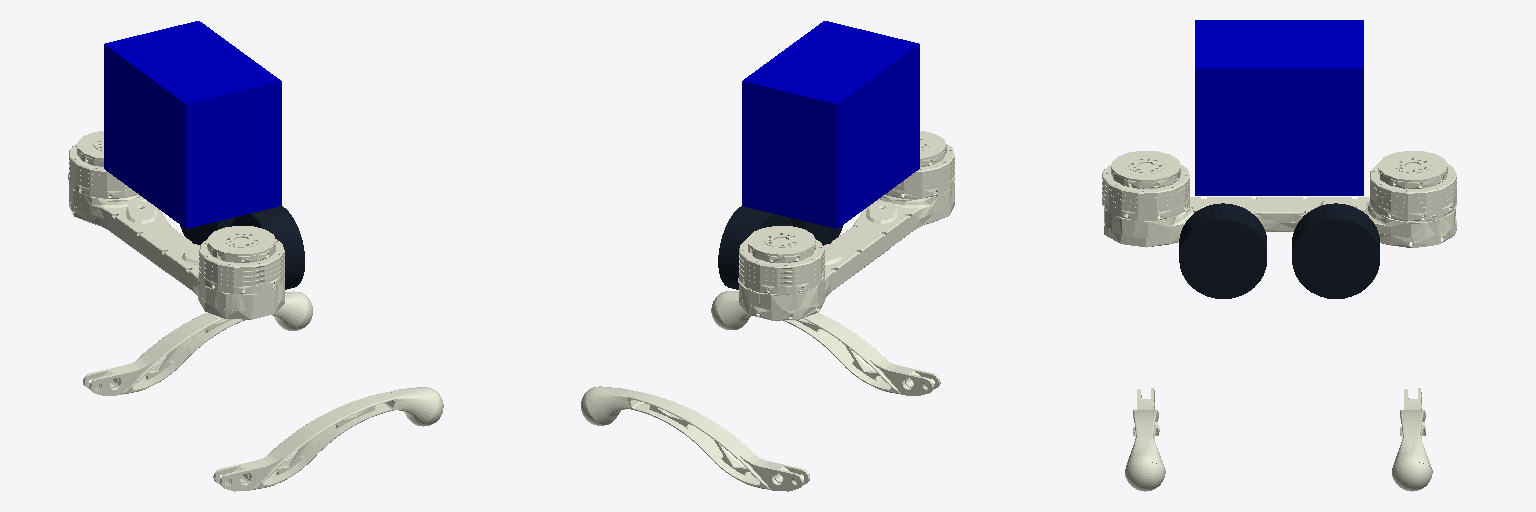
URDF robot description (SDUog_description):
<?xml version="1.0" ?>
<robot name="SDUog_description" xmlns:xacro="http://www.ros.org/wiki/xacro">
  <material name="black">
    <color rgba="0.0 0.0 0.0 1.0"/>
  </material>
  <material name="blue">
    <color rgba="0.0 0.0 0.8 1.0"/>
  </material>
  <material name="green">
    <color rgba="0.0 0.8 0.0 1.0"/>
  </material>
  <material name="grey">
    <color rgba="0.2 0.2 0.2 1.0"/>
  </material>
  <material name="silver">
    <color rgba="0.913725490196 0.913725490196 0.847058823529 1.0"/>
  </material>
  <material name="orange">
    <color rgba="0.12 0.15 0.2 1.0"/>
  </material>
  <material name="brown">
    <color rgba="0.870588235294 0.811764705882 0.764705882353 1.0"/>
  </material>
  <material name="red">
    <color rgba="0.8 0.0 0.0 1.0"/>
  </material>
  <material name="white">
    <color rgba="1.0 1.0 1.0 1.0"/>
  </material>

  <link name="base">
    <visual>
      <origin rpy="0 0 0" xyz="0 0 0"/>
      <geometry>
        <box size="0.001 0.001 0.001"/>
      </geometry>
    </visual>
  </link>

  <joint name="floating_base" type="fixed">
    <origin rpy="0 0 0" xyz="0 0 0"/>
    <parent link="base"/>
    <child link="trunk"/>
  </joint>

  <link name="trunk">
    <visual>
      <origin rpy="0 0 0" xyz="0 0 0"/>
      <geometry>
         <box size="0.12 0.18 0.15"/>
      </geometry>
      <material name="blue"/>
    </visual>

    <collision>
      <origin rpy="0 0 0" xyz="0 0 0"/>
      <geometry>
        <box size="0.12 0.18 0.15"/>
      </geometry>
    </collision>

    <inertial>
      <origin rpy="0 0 0" xyz="0.05 0 0.025"/>
      <mass value="5.5"/> 
      <inertia ixx="0.011253" ixy="0" ixz="0" iyy="0.036203" iyz="0" izz="0.042673"/>
    </inertial>
  </link>

  <joint name="imu_joint" type="fixed">
    <parent link="trunk"/>
    <child link="imu_link"/>
    <origin rpy="0 0 0" xyz="0 0 0"/>
  </joint>

  <link name="imu_link">
    <inertial>
      <mass value="0.001"/>
      <origin rpy="0 0 0" xyz="0 0 0"/>
      <inertia ixx="0.0001" ixy="0" ixz="0" iyy="0.0001" iyz="0" izz="0.0001"/>
    </inertial>
    <visual>
      <origin rpy="0 0 0" xyz="0 0 0"/>
      <geometry>
        <box size="0.001 0.001 0.001"/>
      </geometry>
      <material name="red"/>
    </visual>
  </link>
  <!--*****************************RF****************************************-->
  <joint name="FR_hip_joint" type="revolute">
    <origin rpy="0 0 0" xyz="0.06 -0.06 -0.14"/>
    <parent link="trunk"/>
    <child link="FR_hip0"/>
    <axis xyz="1 0 0"/>
    <dynamics damping="0" friction="0"/>
    <limit effort="48" lower="-0.2" upper="0.2" velocity="40"/>
  </joint>
  <!--*****************************RF**hip**************************************-->
   <link name="FR_hip0">
    <visual>
      <origin rpy="0 1.57 0" xyz="0 0 0"/>
      <geometry>
         <cylinder length="0.04" radius="0.047"/>
      </geometry>
      <material name="orange"/>
    </visual>

    <collision>
      <origin rpy=" 0 1.57 0" xyz="0 0.0 0"/>
      <geometry>
           <cylinder length="0.04" radius="0.047"/>  
      </geometry>
    </collision>

    <inertial>
      <origin rpy="0 0 0" xyz="-0.00077 0.000004 0"/>
      <mass value="0.001"/>
      <inertia ixx="0.0001" ixy="0" ixz="0" iyy="0.0001" iyz="0" izz="0.0001"/>
    </inertial>       
  </link> 
  
  <joint name="FR_hip0_fixed" type="fixed">
    <origin rpy="0 0 0" xyz="-0.08 0 0"/>
    <parent link="FR_hip0"/>
    <child link="FR_hip"/>
  </joint>

  <link name="FR_hip">
    <visual>
      <origin rpy="3.14159265359 0 0" xyz="0 0 0"/>
      <geometry>
        <mesh filename="../meshes/hip.dae" scale="1 1 1"/>
      </geometry>
      <material name="orange"/>
    </visual>

    <inertial>
      <origin rpy="0 0 0" xyz="-0.003311 -0.000635 3.1e-05"/>
      <mass value="0.7"/>
      <inertia ixx="0.000469246" ixy="9.409e-06" ixz="-3.42e-07" iyy="0.00080749" iyz="4.66e-07" izz="0.000552929"/>
    </inertial>
  </link>

  <joint name="FR_hip_fixed" type="fixed">
    <origin rpy="0 0 0" xyz="0 -0.081 0"/>
    <parent link="FR_hip"/>
    <child link="FR_thigh_shoulder"/>
  </joint>

  <link name="FR_thigh_shoulder">

  </link>
  <!--*****************************RF***thigh*************************************-->
  <joint name="FR_thigh_joint" type="revolute">
    <origin rpy="0 0 0" xyz="-0. -0.082 0"/>
    <parent link="FR_hip"/>
    <child link="FR_thigh"/>
    <axis xyz="0 -1 0"/>
    <dynamics damping="0" friction="0"/>
    <limit effort="48" lower="-1.5" upper="1.4" velocity="40"/>
  </joint>

  <link name="FR_thigh">
    <visual>
      <origin rpy="-1.57 0 3.1415926" xyz="0 0 0"/>
      <geometry>
        <mesh filename="../meshes/thigh_mirror.stl" scale="1 1 1"/>
      </geometry>
      <material name="silver"/>
    </visual>

    <collision>
      <origin rpy="0 1.57079632679 0" xyz="0 0 -0.1"/>
      <geometry>
        <box size="0.2 0.0245 0.034"/>
      </geometry>
    </collision>

    <inertial>
      <origin rpy="0 0 0" xyz="-0.003237 0.022327 -0.027326"/>
      <mass value="2.28"/>
      <inertia ixx="0.005529065" ixy="-4.825e-06" ixz="0.000343869" iyy="0.005139339" iyz="-2.2448e-05" izz="0.001367788"/>
    </inertial>
  </link>

  <joint name="FR_calf_joint" type="revolute">
    <origin rpy="0 0 0" xyz="0 0 -0.22"/>
    <parent link="FR_thigh"/>
    <child link="FR_calf"/>
    <axis xyz="0 -1 0"/>
    <dynamics damping="0" friction="0"/>
    <limit effort="48" lower="0.9" upper="2.5" velocity="40"/>
  </joint>

  <link name="FR_calf">
    <visual>
      <origin rpy="0 0 0" xyz="0 0 0"/>
      <geometry>
        <mesh filename="../meshes/calf_sdu.dae" scale="1 1 1"/>
      </geometry>
      <material name="silver"/>
    </visual>

    <collision>
      <origin rpy="0 1.57079632679 0" xyz="0 0 -0.1"/>
      <geometry>
        <box size="0.2 0.016 0.016"/>
      </geometry>
    </collision>

    <inertial>
      <origin rpy="0 0 0" xyz="0.006435 0.0 -0.107388"/>
      <mass value="0.3"/>
      <inertia ixx="0.002997972" ixy="0.0" ixz="-0.000141163" iyy="0.003014022" iyz="0.0" izz="3.2426e-05"/>
    </inertial>
  </link>

  <joint name="FR_foot_fixed" type="fixed" dont_collapse="true">
    <origin rpy="0 0 0" xyz="-0.0 0 -0.225"/>
    <parent link="FR_calf"/>
    <child link="FR_foot"/>
  </joint>

  <link name="FR_foot">
    <visual>
      <origin rpy="0 0 0" xyz="0 0 0"/>
      <geometry>
        <sphere radius="0.01"/>
      </geometry>
      <material name="orange"/>
    </visual>
    <collision>
      <origin rpy="0 0 0" xyz="0 0 0"/>
      <geometry>
        <sphere radius="0.02"/>
      </geometry>
    </collision>
    <inertial>
      <mass value="0.1"/>
      <inertia ixx="9.6e-06" ixy="0.0" ixz="0.0" iyy="9.6e-06" iyz="0.0" izz="9.6e-06"/>
    </inertial>
  </link>
  <!--*****************************LF****************************************-->
  <joint name="FL_hip_joint" type="revolute">
    <origin rpy="0 0 0" xyz="0.06 0.06 -0.14"/>
    <parent link="trunk"/>
    <child link="FL_hip0"/>
    <axis xyz="1 0 0"/>
    <dynamics damping="0" friction="0"/>
    <limit effort="48" lower="-0.2" upper="0.2" velocity="40"/>
  </joint>
  
  <link name="FL_hip0">
    <visual>
      <origin rpy="0 1.57 0" xyz="0 0 0"/>
      <geometry>
         <cylinder length="0.04" radius="0.047"/>
      </geometry>
      <material name="orange"/>
    </visual>

    <collision>
      <origin rpy=" 0 1.57 0" xyz="0 0.0 0"/>
      <geometry>
           <cylinder length="0.04" radius="0.047"/>  
      </geometry>
    </collision>

    <inertial>
      <origin rpy="0 0 0" xyz="-0.00077 0.000004 0"/>
      <mass value="0.001"/>
      <inertia ixx="0.0001" ixy="0" ixz="0" iyy="0.0001" iyz="0" izz="0.0001"/>
    </inertial>       
  </link> 
  
  <joint name="FL_hip0_fixed" type="fixed">
    <origin rpy="0 0 0" xyz="-0.08 0 0"/>
    <parent link="FL_hip0"/>
    <child link="FL_hip"/>
  </joint>
  
  <link name="FL_hip">
    <visual>
      <origin rpy="0 0 0" xyz="0 0 0"/>
      <geometry>
        <mesh filename="../meshes/hip.dae" scale="1 1 1"/>
      </geometry>
      <material name="orange"/>
    </visual>

    <inertial>
      <origin rpy="0 0 0" xyz="-0.003311 0.000635 3.1e-05"/>
      <mass value="0.7"/>
      <inertia ixx="0.000469246" ixy="-9.409e-06" ixz="-3.42e-07" iyy="0.00080749" iyz="-4.66e-07" izz="0.000552929"/>
    </inertial>
  </link>

  <joint name="FL_hip_fixed" type="fixed">
    <origin rpy="0 0 0" xyz="0 0.081 0"/>
    <parent link="FL_hip"/>
    <child link="FL_thigh_shoulder"/>
  </joint>

  <link name="FL_thigh_shoulder">
  </link>

  <joint name="FL_thigh_joint" type="revolute">
    <origin rpy="0 0 0" xyz="-0. 0.082 0"/>
    <parent link="FL_hip"/>
    <child link="FL_thigh"/>
    <axis xyz="0 -1 0"/>
    <dynamics damping="0" friction="0"/>
    <limit effort="48" lower="-1.5" upper="1.4" velocity="40"/>
  </joint>
  <link name="FL_thigh">
    <visual>
      <origin rpy="-1.57 0 0" xyz="0 0 0"/>
      <geometry>
        <mesh filename="../meshes/thigh.stl" scale="1 1 1"/>
      </geometry>
      <material name="silver"/>
    </visual>

    <collision>
      <origin rpy="0 1.57079632679 0" xyz="0 0 -0.1"/>
      <geometry>
        <box size="0.2 0.0245 0.034"/>
      </geometry>
    </collision>

    <inertial>
      <origin rpy="0 0 0" xyz="-0.003237 -0.022327 -0.027326"/>
      <mass value="2.25"/>
      <inertia ixx="0.005529065" ixy="4.825e-06" ixz="0.000343869" iyy="0.005139339" iyz="2.2448e-05" izz="0.001367788"/>
    </inertial>
  </link>

  <joint name="FL_calf_joint" type="revolute">
    <origin rpy="0 0 0" xyz="0 0 -0.22"/>
    <parent link="FL_thigh"/>
    <child link="FL_calf"/>
    <axis xyz="0 -1 0"/>
    <dynamics damping="0" friction="0"/>
    <limit effort="48" lower="0.9" upper="2.5" velocity="40"/>
  </joint>

  <link name="FL_calf">
    <visual>
      <origin rpy="0 0 0" xyz="0 0 0"/>
      <geometry>
        <mesh filename="../meshes/calf_sdu.dae" scale="1 1 1"/>
      </geometry>
      <material name="silver"/>
    </visual>

    <collision>
      <origin rpy="0 1.57079632679 0" xyz="0 0 -0.1"/>
      <geometry>
        <box size="0.2 0.016 0.016"/>
      </geometry>
    </collision>

    <inertial>
      <origin rpy="0 0 0" xyz="0.006435 0.0 -0.107388"/>
      <mass value="0.3"/>
      <inertia ixx="0.002997972" ixy="0.0" ixz="-0.000141163" iyy="0.003014022" iyz="0.0" izz="3.2426e-05"/>
    </inertial>
  </link>

  <joint name="FL_foot_fixed" type="fixed" dont_collapse="true">
    <origin rpy="0 0 0" xyz="0 0 -0.225"/>
    <parent link="FL_calf"/>
    <child link="FL_foot"/>
  </joint>

  <link name="FL_foot">
    <visual>
      <origin rpy="0 0 0" xyz="0 0 0"/>
      <geometry>
        <sphere radius="0.01"/>
      </geometry>
      <material name="orange"/>
    </visual>
    <collision>
      <origin rpy="0 0 0" xyz="0 0 0"/>
      <geometry>
        <sphere radius="0.02"/>
      </geometry>
    </collision>
    <inertial>
      <mass value="0.1"/>
      <inertia ixx="9.6e-06" ixy="0.0" ixz="0.0" iyy="9.6e-06" iyz="0.0" izz="9.6e-06"/>
    </inertial>
  </link>

</robot>

--- Render facts (derived) ---
Views: 3 orthographic renders of the robot side by side, from view 1: azimuth 30°, elevation 25°; view 2: azimuth 150°, elevation 25°; view 3: azimuth 270°, elevation 25°.
Model SDUog_description with 15 links and 14 joints (6 revolute, 8 fixed), rooted at base, posed all joints at 0 but 2 set to mid-range because 0 is outside their limits (FR_calf_joint = 1.7, FL_calf_joint = 1.7).
Links seen in each view (by area): view 1: trunk, FR_thigh, FR_calf, FL_thigh, FL_calf, FR_hip0, FL_hip0; view 2: trunk, FL_thigh, FL_calf, FR_thigh, FR_calf, FL_hip0, FR_hip0; view 3: trunk, FL_thigh, FR_thigh, FR_hip0, FL_hip0, FR_calf, FL_calf.
Boxes of the visible links, x1=… form: trunk: x1=104, y1=21, x2=281, y2=228; FR_thigh: x1=126, y1=201, x2=284, y2=319; FR_calf: x1=213, y1=387, x2=443, y2=491; FL_thigh: x1=68, y1=131, x2=198, y2=274; FL_calf: x1=83, y1=291, x2=312, y2=395; FR_hip0: x1=232, y1=206, x2=304, y2=289; FL_hip0: x1=180, y1=217, x2=234, y2=244; trunk: x1=742, y1=21, x2=919, y2=228; FL_thigh: x1=738, y1=201, x2=896, y2=320; FL_calf: x1=581, y1=386, x2=809, y2=491; FR_thigh: x1=825, y1=131, x2=954, y2=271; FR_calf: x1=711, y1=291, x2=940, y2=395; FL_hip0: x1=718, y1=206, x2=791, y2=289; FR_hip0: x1=789, y1=218, x2=842, y2=245; trunk: x1=1195, y1=20, x2=1363, y2=195; FL_thigh: x1=1192, y1=151, x2=1457, y2=247; FR_thigh: x1=1102, y1=151, x2=1366, y2=247; FR_hip0: x1=1179, y1=203, x2=1266, y2=298; FL_hip0: x1=1292, y1=203, x2=1379, y2=298; FR_calf: x1=1125, y1=388, x2=1165, y2=491; FL_calf: x1=1392, y1=388, x2=1432, y2=491.
Size in the robot's own frame: 0.2965 by 0.3784 by 0.4504 metres.
Meshes: 4 distinct files referenced, 4 mesh visuals loaded (2 binary STL, 1 Collada DAE); not drawn: 2 (reference not matched to a file when rendering).
